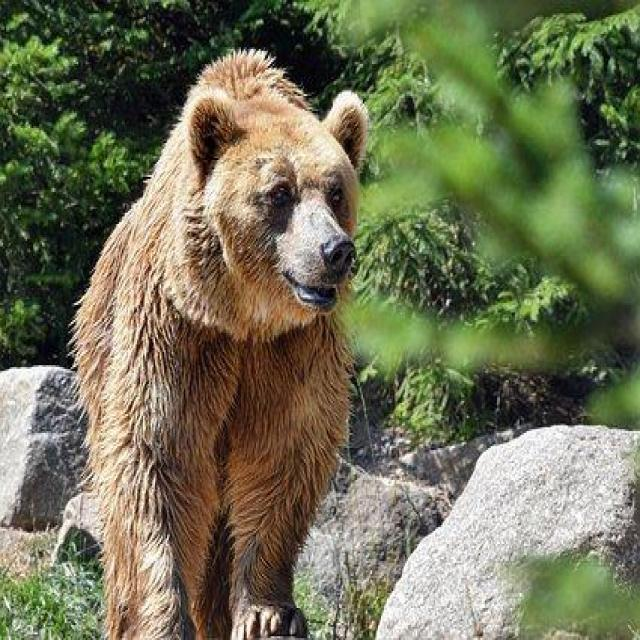Bear: (69, 51, 369, 640)
